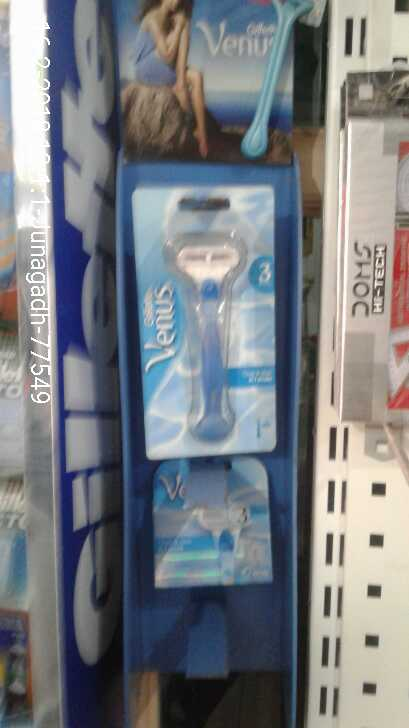venus: (130, 181, 282, 453), (158, 456, 276, 589)
